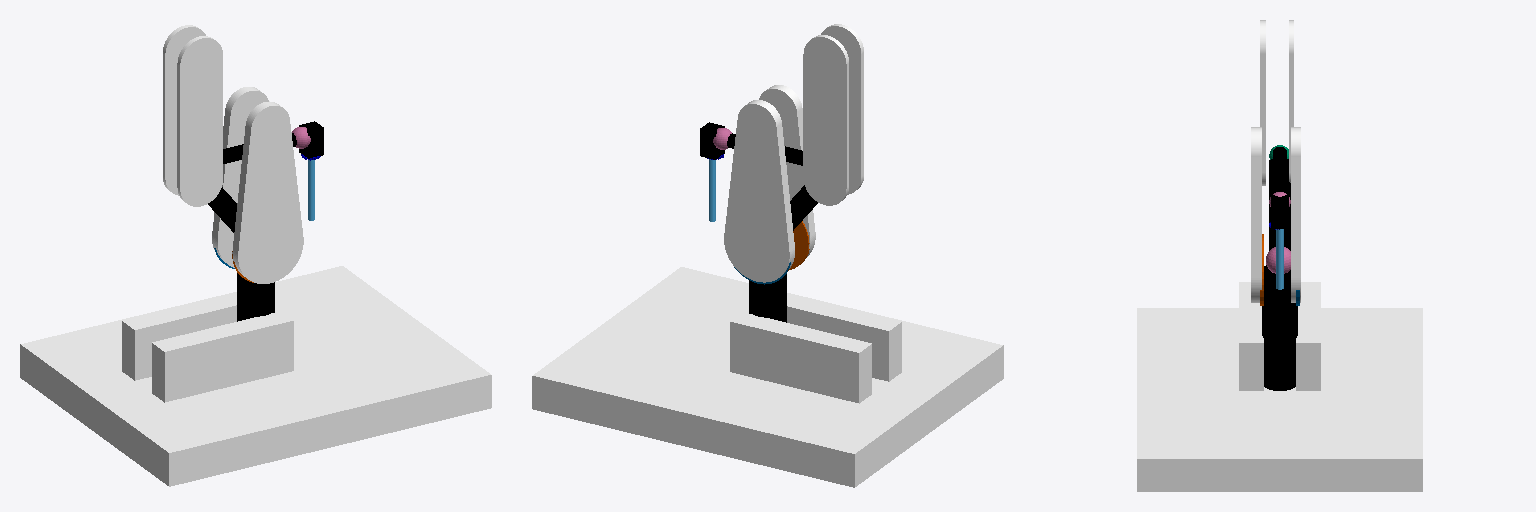
URDF robot description (rhino):
<?xml version="1.0"?>
<robot xmlns:xacro="http://www.ros.org/wiki/xacro" name="rhino">

    <material name="blue">
        <color rgba="0 0 0.8 1"/>
    </material>
    <material name="black">
        <color rgba="0 0 0 1"/>
    </material>
    <material name="white">
        <color rgba="1 1 1 1"/>
    </material>

    <link name="base_link">
        <visual>
            <geometry>
                <box size="1.0 0.8 0.1"/>
            </geometry>
            <material name="white"/>
        </visual>
    </link>

    <link name="cuadrado_1">
        <visual>
            <geometry>
                <!-- El tamaño del cuadrado, altura = 0.2 (mitad del largo del tronco) -->
                <box size="0.4 0.07 0.2"/>
            </geometry>
            <material name="white"/>
            <!-- Ajusta la posición según sea necesario -->
            <origin rpy="0 0 0" xyz="-0.15 0 0.1"/>
        </visual>
    </link>

    <joint name="base_cuadrado1" type="fixed">
        <parent link="base_link"/>
        <child link="cuadrado_1"/>
        <origin xyz="0 0.08 0"/>
    </joint>

    <link name="cuadrado_2">
        <visual>
            <geometry>
                <!-- El tamaño del cuadrado, altura = 0.2 (mitad del largo del tronco) -->
                <box size="0.4 0.07 0.2"/>
            </geometry>
            <material name="white"/>
            <!-- Ajusta la posición según sea necesario -->
            <origin rpy="0 0 0" xyz="-0.15 0 0.1"/>
        </visual>
    </link>

    <joint name="base_cuadrado2" type="fixed">
        <parent link="base_link"/>
        <child link="cuadrado_2"/>
        <origin xyz="0 -0.08 0"/>
    </joint>

    <!-- <link name="prueba">
        <visual>
            <origin rpy="0 0 0" xyz="0 0 0.19"/>
            <geometry>
                <mesh filename="package://rhino_description/meshes/prueba.stl" scale="0.001 0.001 0.001"/>
            </geometry>
            <material name="white"/>
        </visual>
    </link>

    <joint name="tronco_to_prueba" type="fixed">
        <parent link="tronco"/>
        <child link="prueba"/>
        <origin xyz="-0.2 -0.06 0" rpy="0 0 0"/>
    </joint>

    <link name="prueba1">
        <visual>
            <origin rpy="0 0 0" xyz="0 0 0.19"/>
            <geometry>
                <mesh filename="package://rhino_description/meshes/prueba.stl" scale="0.001 -0.001 0.001"/>
            </geometry>
            <material name="white"/>
        </visual>
    </link>

    <joint name="tronco_to_prueba1" type="fixed">
        <parent link="tronco"/>
        <child link="prueba1"/>
        <origin xyz="-0.2 0.06 0" rpy="0 0 0"/>
    </joint> -->

    <link name="tronco">
        <visual>
            <geometry>
                <cylinder radius="0.05" length="0.4"/>
            </geometry>
            <material name="black"/>
            <origin rpy="0 0 0" xyz="0 0 0.1"/>
        </visual>
    </link>

    <joint name="base_tronco" type="revolute">
        <parent link="base_link"/>
        <child link="tronco"/>
        <origin xyz="0 0 0.1"/>
        <!-- Eje Z para permitir la rotación -->
        <axis xyz="0 0 1"/>
        <limit effort="1000.0" velocity="0.5" lower="-3.14" upper="3.14"></limit> 
    </joint>

    <link name="tuerca_der">
        <visual>
            <geometry>
                <cylinder radius="0.1" length="0.01"/>
            </geometry>
            <origin rpy="1.57 1.57 0" xyz="0 0.05 0.3"/>
        </visual> 
    </link>

    <joint name="tronco_to_tuerca_der" type="fixed">
        <parent link="tronco"/>
        <child link="tuerca_der"/>
        <!-- Posición relativa a "tronco" -->
        <origin xyz="0 0 0"/>
    </joint>

    <link name="tuerca_izq">
        <visual>
            <geometry>
                <cylinder radius="0.1" length="0.01"/>
            </geometry>
            <origin rpy="-1.57 1.57 0" xyz="0 -0.05 0.3"/>
        </visual> 
    </link>

    <joint name="tronco_to_tuerca_izq" type="fixed">
        <parent link="tronco"/>
        <child link="tuerca_izq"/>
        <!-- Posición relativa a "tronco" -->
        <origin xyz="0 0 0"/>
    </joint>

    <link name="rueda_de_tronco">
        <visual>
            <geometry>
                <sphere radius="0.04"/>
            </geometry>
            <origin rpy="0 0 0" xyz="0 0 0"/>
        </visual>
    </link>

    <joint name="rueda_para_tronco" type="fixed">
        <parent link="tronco"/>
        <child link="rueda_de_tronco"/>
        <origin xyz="0 0 0.33"/>
    </joint>

    <link name="brazo">
        <visual>
            <geometry>
                <cylinder radius="0.03" length="0.3"/>
            </geometry>
            <material name="black"/>
            <origin rpy="0 -0.66 0" xyz="-0.10 0 0.10"/>
        </visual>
    </link>

    <joint name="hombro_brazo" type="revolute">
        <parent link="rueda_de_tronco"/>
        <child link="brazo"/>
        <origin xyz="0 0 0"/>
        <axis xyz="0 1 0"/> 
        <!-- Límite de rotación de -180 a 180 grados -->
        <limit effort="1000.0" velocity="0.5" lower="-0.9" upper="1.57"/>
    </joint>

    <link name="cubierta_brazo1">
        <visual>
            <origin rpy="0 0 0" xyz="0 0 0.18"/>
            <geometry>
                <!-- <mesh filename="brazo.stl" scale="0.001 0.001 0.001"/> -->
                <mesh filename="package://rhino_description/meshes/brazo.stl" scale="0.001 0.001 0.001"/>
            </geometry>
            <material name="white"/>
        </visual>
    </link>

    <joint name="brazo_cubierto1" type="fixed">
        <parent link="brazo"/>
        <child link="cubierta_brazo1"/>
        <origin xyz=" 0 -0.05 -0.2" rpy="0 0 0"/>
    </joint>

    <link name="cubierta_brazo2">
        <visual>
            <origin rpy="0 0 0" xyz="0 0 0.18"/>
            <geometry>
                <!-- <mesh filename="brazo.stl" scale="0.001 0.001 0.001"/> -->
                <mesh filename="package://rhino_description/meshes/brazo.stl" scale="0.001 0.001 0.001"/>
            </geometry>
            <material name="white"/>
        </visual>
    </link>

    <joint name="brazo_cubierto2" type="fixed">
        <parent link="brazo"/>
        <child link="cubierta_brazo2"/>
        <origin xyz=" 0 0.06 -0.2" rpy="0 0 0"/>
    </joint>

    <link name="codo">
        <visual>
            <geometry>
                <sphere radius="0.03"/>
            </geometry>
            <origin rpy="0 0 0" xyz="0 0 0"/>
        </visual>
    </link>

    <joint name="codo_de_brazo" type="fixed">
        <parent link="brazo"/>
        <child link="codo"/>
        <origin xyz="-0.2 0 0.23"/>
        <axis xyz="0 1 0"/>
    </joint>

    <link name="antebrazo">
        <visual>
            <geometry>
                <cylinder radius="0.02" length="0.3"/>
            </geometry>
            <material name="black"/>
            <origin rpy="0 1.5708 0" xyz="0.165 0 0.015"/>
        </visual>
    </link>

    <joint name="codo_antebrazo" type="revolute">
        <parent link="codo"/>
        <child link="antebrazo"/>
        <origin xyz="0 0 0"/>
        <axis xyz="0 1 0"/>
        <limit lower="-3.14" upper="3.14" effort="1000.0" velocity="0.5"/>
    </joint>

    <link name="cubierta_antebrazo1">
        <visual>
            <origin rpy="0 0 0" xyz="0 0 0.18"/>
            <geometry>
                <!-- <mesh filename="antebrazo.stl" scale="0.001 0.001 0.001"/> -->
                <mesh filename="package://rhino_description/meshes/antebrazo.stl" scale="0.001 0.001 0.001"/>
            </geometry>
            <material name="white"/>
        </visual>
    </link>

    <joint name="antebrazo_cubierta1" type="fixed">
        <parent link="antebrazo"/>
        <child link="cubierta_antebrazo1"/>
        <origin xyz=" 0 -0.04 -0.2" rpy="0 0 0"/>
    </joint>

    <link name="cubierta_antebrazo2">
        <visual>
            <origin rpy="0 0 0" xyz="0 0 0.18"/>
            <geometry>
                <!-- <mesh filename="antebrazo.stl" scale="0.001 0.001 0.001"/> -->
                <mesh filename="package://rhino_description/meshes/antebrazo.stl" scale="0.001 0.001 0.001"/>
            </geometry>
            <material name="white"/>
        </visual>
    </link>

    <joint name="antebrazo_cubierto2" type="fixed">
        <parent link="antebrazo"/>
        <child link="cubierta_antebrazo2"/>
        <origin xyz=" 0 0.04 -0.2" rpy="0 0 0"/>
    </joint>

    <link name="muneca_cil">
        <visual>
            <geometry>
                <sphere radius="0.03"/>
            </geometry>
            <origin rpy="0 0 0" xyz="0 0 0"/>
        </visual>
    </link>

    <joint name="antebrazo_muneca" type="fixed">
        <parent link="antebrazo"/>
        <child link="muneca_cil"/>
        <origin xyz="0.34 0 0.015"/>
        <axis xyz="0 1 0"/>
        <limit lower="-3.14" upper="3.14" effort="1000.0" velocity="0.5"/>
    </joint>  

    <link name="muneca">
        <visual>
            <geometry>
                <box size="0.05 0.05 0.08"/>
            </geometry>
            <origin rpy="0 0 0" xyz="0.033 0 -0.015"/>
            <material name="black"/>
        </visual>
    </link>
    <joint name="muneca" type="revolute">
        <parent link="muneca_cil"/>
        <child link="muneca"/>
        <origin xyz="0 0 0"/>
        <axis xyz="0 1 0"/>
        <limit lower="-3.14" upper="3.14" effort="1000.0" velocity="0.5"/>
    </joint>

    <link name="engranaje_muneca">
        <visual>
            <geometry>
            <mesh filename="package://rhino_description/meshes/engranaje.stl" scale="0.001 0.001 0.001"/>
            <!-- <mesh filename="Engranaje.stl" scale="0.0012 0.0012 0.001"/> -->
            </geometry>
            <origin rpy="0 0 0" xyz="-0.031 -0.036 0"/>
            <material name="blue"/>
        </visual>
    </link>

    <joint name="engranaje_giro" type="continuous">
        <parent link="muneca"/>
        <child link="engranaje_muneca"/>
        <origin xyz="0.033 0 -0.06"/>
        <axis xyz="0 0 1"/>
        <!-- <limit lower="-3.14" upper="3.14" effort="1000.0" velocity="0.5"/> -->
    </joint>

    <link name="mano">
        <visual>
            <geometry>
                <cylinder radius="0.01" length="0.2"/>
            </geometry>
            <origin rpy="0 0 0" xyz="0 0 0.14"/>
        </visual>
    </link>

    <joint name="muneca_mano" type="fixed">
        <parent link="engranaje_muneca"/>
        <child link="mano"/>
        <origin xyz="0 0 -0.23"/>
    </joint>

    <link name="left_gripper">
        <visual>
            <origin rpy="0 1.57 0" xyz="0 0 -0.2"/>
            <geometry>
                <!-- <mesh filename="l_finger.dae"/> -->
                <mesh filename="package://rhino_description/meshes/dedo.dae"/>
            </geometry>
        </visual>
    </link>

    <joint name="gripper_izquierdo" type="revolute">
        <parent link="engranaje_muneca"/>
        <child link="left_gripper"/>
        <limit effort="1000.0" lower="-0.38" upper="0" velocity="0.5"/>
        <origin rpy="0 0 0" xyz="0 0.01 0"/>
        <axis xyz="-1.0 0.0 0.0"/>
    </joint>

    <link name="right_gripper">
        <visual>
            <origin rpy="3.14 1.57 0" xyz="0 0 -0.2"/>
            <geometry>
                <!-- <mesh filename="l_finger.dae"/> -->
                <mesh filename="package://rhino_description/meshes/dedo.dae"/>
            </geometry>
        </visual>
    </link>

    <joint name="gripper_right" type="revolute">
        <parent link="engranaje_muneca"/>
        <child link="right_gripper"/>
        <limit effort="1000.0" lower="-0.38" upper="0" velocity="0.5"/>
        <origin rpy="0 0 0" xyz="0 -0.01 0"/>
        <axis xyz="10 0 0"/>
    </joint>

</robot>

--- What the picture shows (computed from the rendered views, not written in the file) ---
3 views of the same robot in one strip: view 1: azimuth 30°, elevation 25°; view 2: azimuth 150°, elevation 25°; view 3: azimuth 270°, elevation 25° (orthographic).
Model rhino with 20 links and 19 joints (6 revolute, 1 continuous, 12 fixed), rooted at base_link, posed every joint at zero.
Links seen in each view (by area): view 1: base_link, cubierta_brazo1, cuadrado_2, cubierta_antebrazo1, cuadrado_1, cubierta_brazo2, cubierta_antebrazo2, tronco, brazo, muneca; view 2: base_link, cubierta_brazo2, cuadrado_1, cubierta_antebrazo2, cuadrado_2, cubierta_antebrazo1, cubierta_brazo1, tronco, brazo, muneca, tuerca_izq; view 3: base_link, tronco, cuadrado_1, cuadrado_2, cubierta_brazo1, cubierta_brazo2, cubierta_antebrazo1, cubierta_antebrazo2, antebrazo, brazo, muneca.
Boxes of the visible links, x1,y1,x2,y2 form: base_link: (20, 266, 491, 486); cubierta_brazo1: (232, 101, 303, 283); cuadrado_2: (152, 311, 293, 402); cubierta_antebrazo1: (177, 36, 222, 206); cuadrado_1: (122, 293, 236, 380); cubierta_brazo2: (212, 87, 268, 267); cubierta_antebrazo2: (163, 25, 205, 195); tronco: (237, 273, 274, 321); brazo: (208, 187, 236, 232); muneca: (299, 121, 323, 158); base_link: (532, 267, 1003, 487); cubierta_brazo2: (724, 100, 794, 282); cuadrado_1: (730, 312, 871, 403); cubierta_antebrazo2: (803, 35, 848, 205); cuadrado_2: (787, 294, 901, 381); cubierta_antebrazo1: (821, 24, 863, 194); cubierta_brazo1: (759, 85, 815, 256); tronco: (749, 274, 786, 322); brazo: (790, 185, 817, 230); muneca: (700, 122, 724, 159); tuerca_izq: (788, 221, 809, 270); base_link: (1137, 308, 1422, 491); tronco: (1262, 265, 1297, 390); cuadrado_1: (1296, 282, 1320, 390); cuadrado_2: (1239, 282, 1263, 390); cubierta_brazo1: (1251, 127, 1261, 302); cubierta_brazo2: (1291, 127, 1300, 302); cubierta_antebrazo1: (1260, 20, 1265, 185); cubierta_antebrazo2: (1289, 20, 1293, 182); antebrazo: (1273, 147, 1286, 193); brazo: (1269, 159, 1290, 250); muneca: (1271, 195, 1288, 228).
Bounding box of the posed robot: 1 × 0.8 × 1.12 m (x, y, z).
Meshes: 4 distinct files referenced, 5 mesh visuals loaded (3 binary STL); not drawn: 2 (reference not matched to a file when rendering).